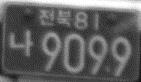0: (63, 32, 86, 74)
1: (92, 11, 101, 32)
8: (73, 10, 88, 31)
9: (86, 33, 109, 76), (109, 35, 133, 76), (41, 30, 61, 73)
나: (8, 28, 34, 58)
전북_O: (38, 8, 72, 27)
